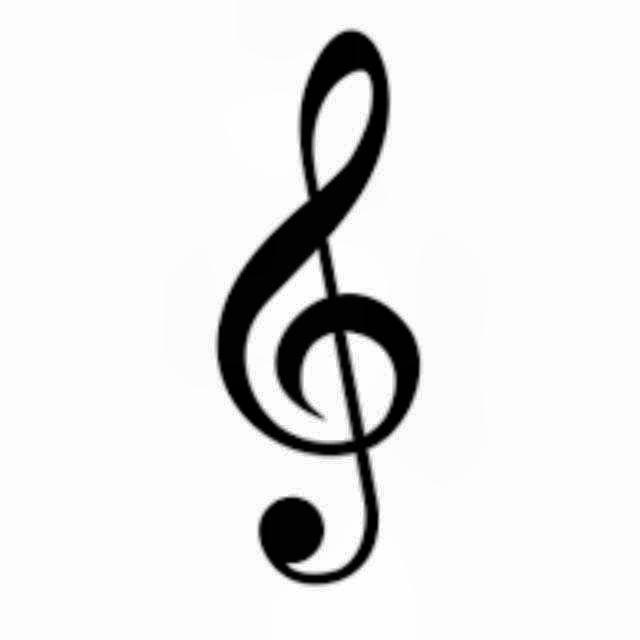Treble-clef: (194, 22, 454, 596)
